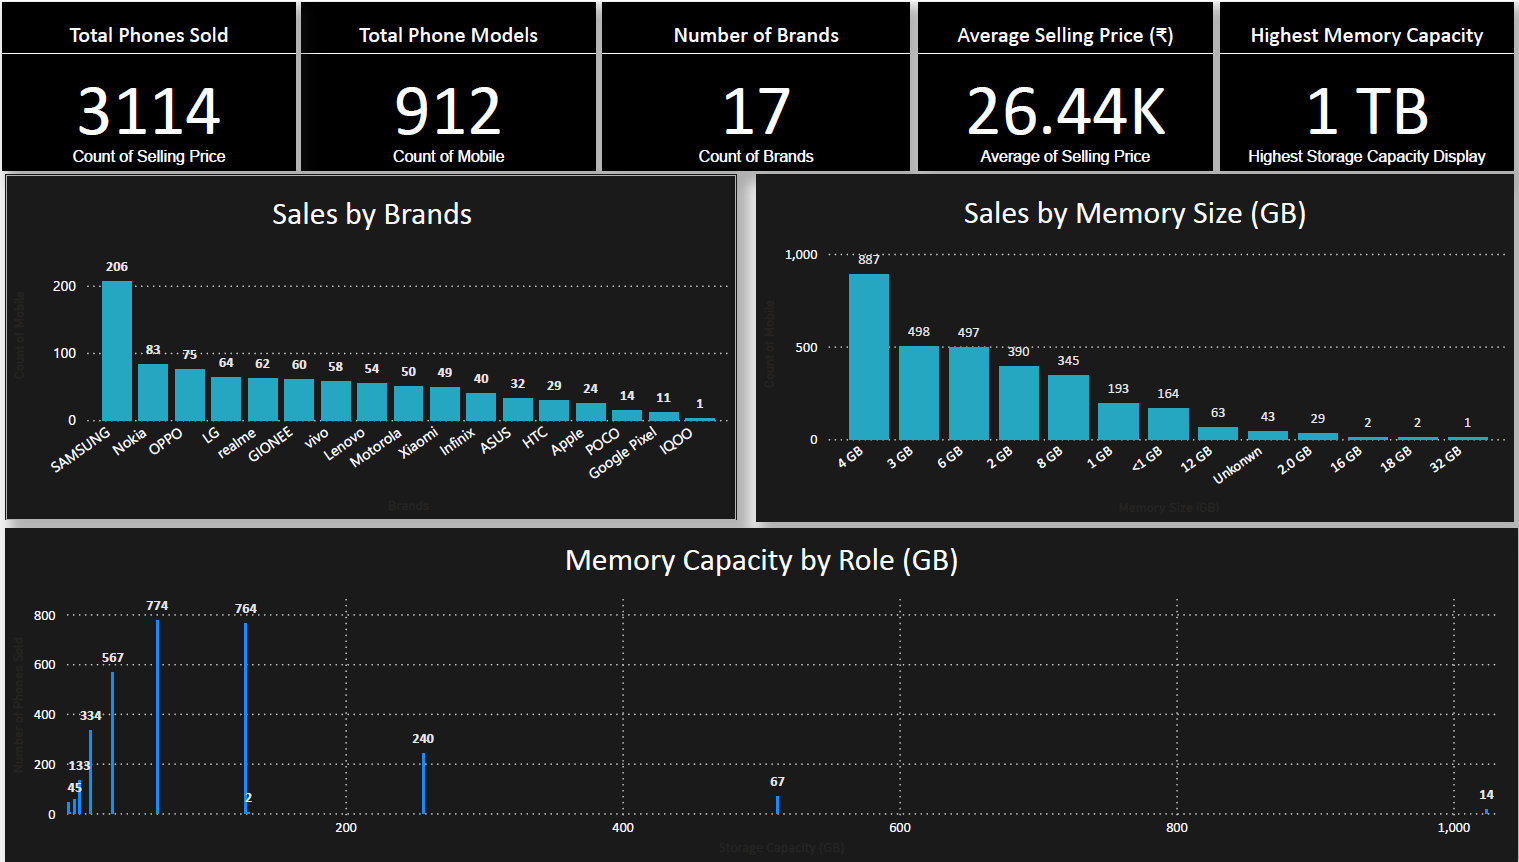

The page's visual inventory and layout, read from the dashboard file:
{"tool":"powerbi","page":{"name":"Page 1","canvas":[1280,720],"ordinal":0},"visuals":[{"type":"card","title":"Total Phone Models","fields":{"Values":["Count(Sales Dataset.Mobile)"]},"box":[253.5,1.4,246.5,139.4],"z":0},{"type":"card","title":"Number of Brands","fields":{"Values":["Count(Sales Dataset.Brands)"]},"box":[505.6,1.4,257.7,139.4],"z":1000},{"type":"card","title":"Average Selling Price (₹)","fields":{"Values":["Avg(Sales Dataset.Selling Price)"]},"box":[770.4,1.4,246.5,139.4],"z":2000},{"type":"card","title":"Total Phones Sold","fields":{"Values":["CountNonNull(Sales Dataset.Selling Price)"]},"box":[2.8,1.4,246.5,139.4],"z":3000},{"type":"card","title":"Highest Memory Capacity","fields":{"Values":["Sales Dataset.Highest Storage Capacity Display"]},"box":[1022.5,1.4,246.5,139.4],"z":4000},{"type":"clusteredColumnChart","title":"Sales by Brands","fields":{"Category":["Sales Dataset.Brands"],"Y":["Count(Sales Dataset.Mobile)"]},"box":[5.6,145.1,612.7,288.7],"z":5000},{"type":"clusteredColumnChart","title":"Sales by Memory Size (GB)","fields":{"Y":["CountNonNull(Sales Dataset.Mobile)"],"Category":["Sales Dataset.Memory_Display"]},"box":[635.2,145.1,633.8,290.1],"z":6000},{"type":"clusteredColumnChart","title":"Memory Capacity by Role (GB)","fields":{"Category":["Sales Dataset.Storage_Num_GB_Final"],"Y":["CountNonNull(Sales Dataset.Mobile)"]},"box":[5.6,440.8,1266.2,278.9],"z":7000}]}

Visuals, with their boxes in screenshot pixels (x1, y1, x2, y2), scaled from the page's 1280x720 canvas onto the 1519x862 screenshot:
"Total Phone Models" card: [x1=301, y1=2, x2=593, y2=169]
"Number of Brands" card: [x1=600, y1=2, x2=906, y2=169]
"Average Selling Price (₹)" card: [x1=914, y1=2, x2=1207, y2=169]
"Total Phones Sold" card: [x1=3, y1=2, x2=296, y2=169]
"Highest Memory Capacity" card: [x1=1213, y1=2, x2=1506, y2=169]
"Sales by Brands" clusteredColumnChart: [x1=7, y1=174, x2=734, y2=519]
"Sales by Memory Size (GB)" clusteredColumnChart: [x1=754, y1=174, x2=1506, y2=521]
"Memory Capacity by Role (GB)" clusteredColumnChart: [x1=7, y1=528, x2=1509, y2=861]
